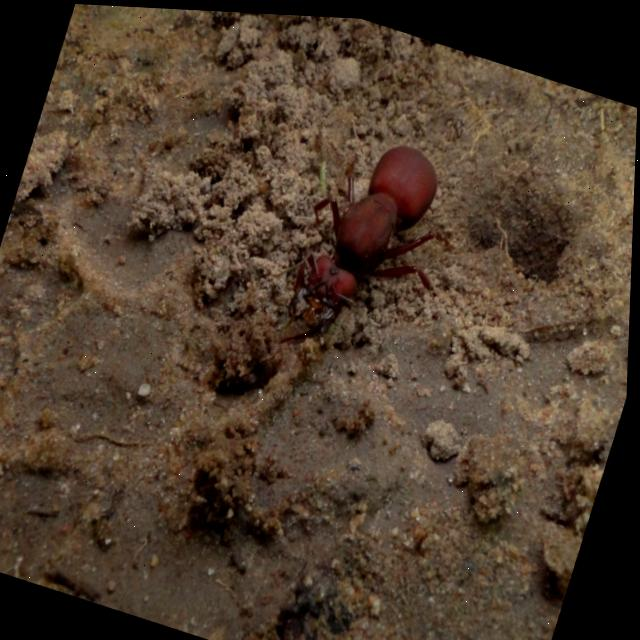Alive-Female-Dealate: (254, 111, 480, 386)
